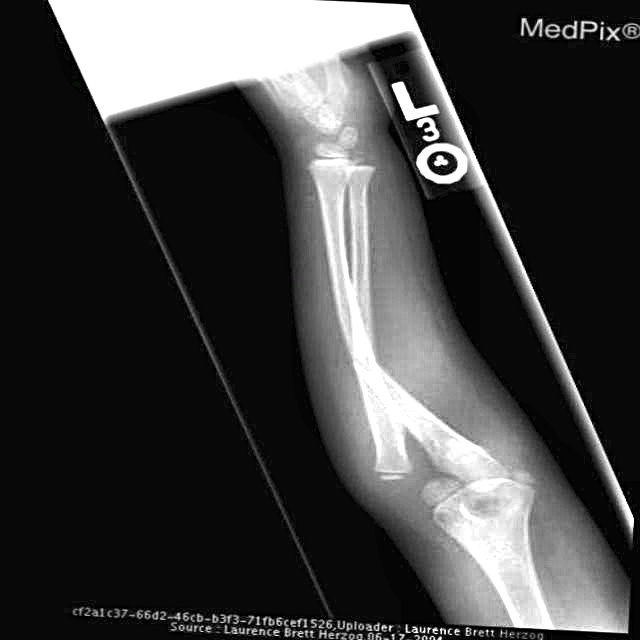Spiral: (341, 302, 401, 414)
